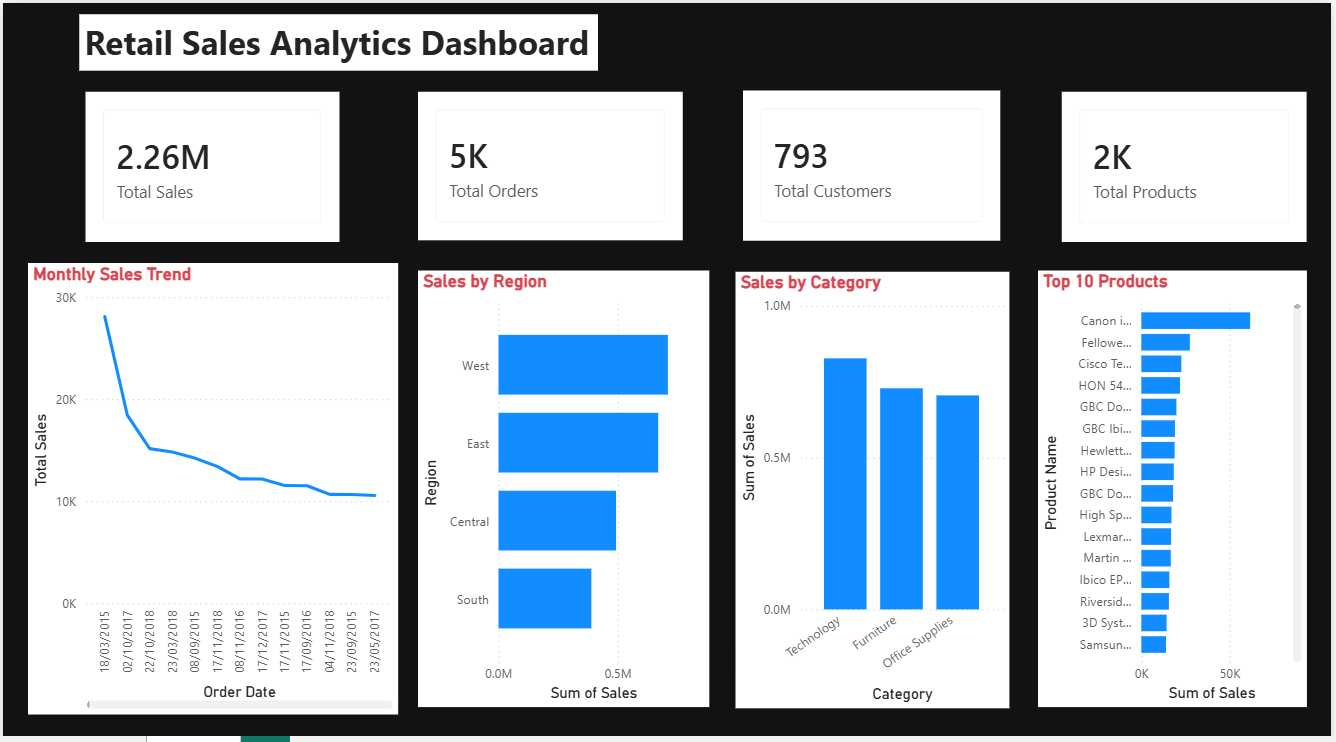

The dashboard page shown, as its layout file describes it:
{"tool":"powerbi","page":{"name":"Page 1","canvas":[1280,720],"ordinal":0},"visuals":[{"type":"cardVisual","fields":{"Data":["Sum(train.Sales)"]},"box":[79.5,85.5,244.6,144.6],"z":0},{"type":"cardVisual","fields":{"Data":["train.Total Orders"]},"box":[400,85.5,255.4,143.4],"z":1000},{"type":"cardVisual","fields":{"Data":["train.Total Customers"]},"box":[713.3,84.3,248.2,144.6],"z":2000},{"type":"cardVisual","fields":{"Data":["train.Total Products"]},"box":[1020.5,85.5,236.1,144.6],"z":3000},{"type":"lineChart","title":"Monthly Sales Trend","fields":{"Category":["train.Order Date"],"Y":["Sum(train.Sales)"]},"box":[24.1,250.6,356.6,434.9],"z":4000},{"type":"clusteredBarChart","title":"Sales by Region","fields":{"Category":["train.Region"],"Y":["Sum(train.Sales)"]},"box":[400,257.8,280.7,420.5],"z":4001},{"type":"clusteredColumnChart","title":"Sales by Category","fields":{"Category":["train.Category"],"Y":["Sum(train.Sales)"]},"box":[706,259,263.9,420.5],"z":4002},{"type":"barChart","title":"Top 10 Products","fields":{"Category":["train.Product Name"],"Y":["Sum(train.Sales)"]},"box":[997.6,257.8,259,420.5],"z":4003},{"type":"textbox","box":[73.5,10.8,500,54.2],"z":4005}]}

Visuals, with their boxes in screenshot pixels (x1, y1, x2, y2), scaled from the page's 1280x720 canvas onto the 1336x742 screenshot:
cardVisual - Sum(train.Sales): {"x1": 83, "y1": 88, "x2": 338, "y2": 237}
cardVisual - train.Total Orders: {"x1": 418, "y1": 88, "x2": 684, "y2": 236}
cardVisual - train.Total Customers: {"x1": 745, "y1": 87, "x2": 1004, "y2": 236}
cardVisual - train.Total Products: {"x1": 1065, "y1": 88, "x2": 1312, "y2": 237}
"Monthly Sales Trend" lineChart: {"x1": 25, "y1": 258, "x2": 397, "y2": 706}
"Sales by Region" clusteredBarChart: {"x1": 418, "y1": 266, "x2": 710, "y2": 699}
"Sales by Category" clusteredColumnChart: {"x1": 737, "y1": 267, "x2": 1012, "y2": 700}
"Top 10 Products" barChart: {"x1": 1041, "y1": 266, "x2": 1312, "y2": 699}
textbox: {"x1": 77, "y1": 11, "x2": 599, "y2": 67}
